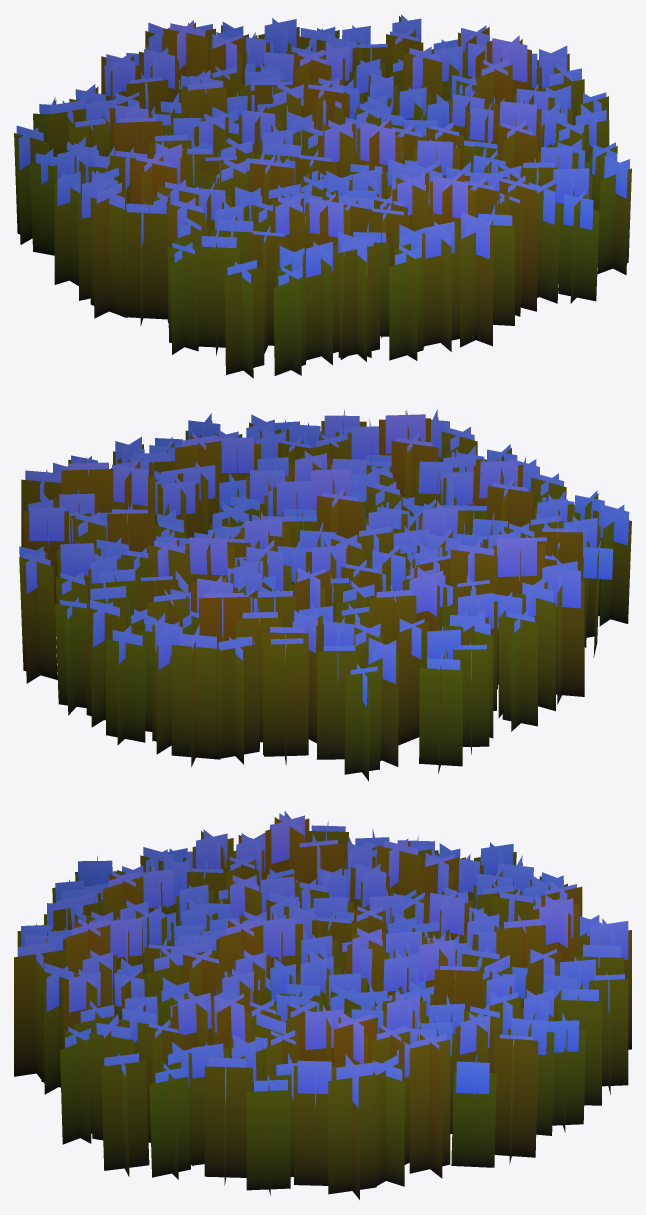
Rendered from SM_Env_Rapeseed_Clump_02.FBX.
3 renders of one model, top to bottom at view 1: azimuth 30°, elevation 25°; view 2: azimuth 150°, elevation 25°; view 3: azimuth 270°, elevation 25°, orthographic. The views are drawn at different scales.
Parts seen in each view (by area): view 1: SM_Env_Rapeseed_Clump_02; view 2: SM_Env_Rapeseed_Clump_02; view 3: SM_Env_Rapeseed_Clump_02.
Part boxes in pixels (bbox=[...]): SM_Env_Rapeseed_Clump_02: bbox=[14, 14, 631, 378]; SM_Env_Rapeseed_Clump_02: bbox=[19, 409, 631, 781]; SM_Env_Rapeseed_Clump_02: bbox=[14, 811, 631, 1199].
Size of the model in its own units: 490 by 487 by 133.
